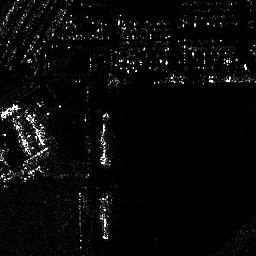ship: (98, 112, 112, 166), (99, 191, 111, 240)
